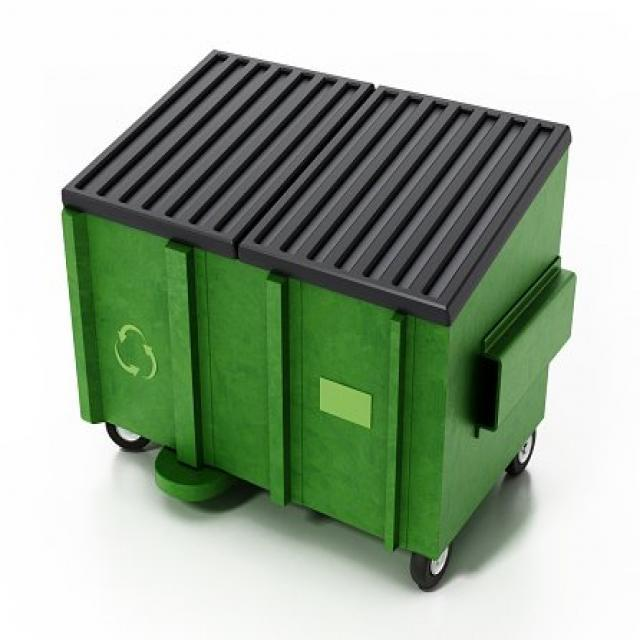Dumpster: (56, 44, 582, 598)
